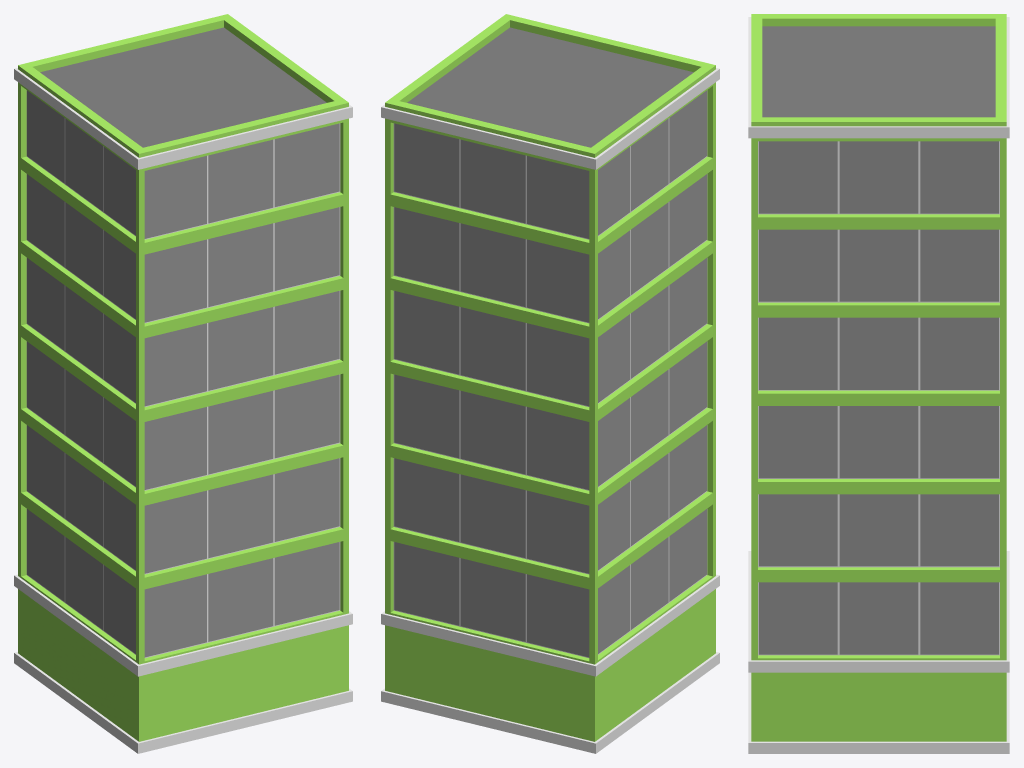
The model's file is SM_House_16_02.FBX.
The picture shows the model from 3 angles, left to right: view 1: azimuth 30°, elevation 25°; view 2: azimuth 150°, elevation 25°; view 3: azimuth 270°, elevation 25°; orthographic projection. The views are drawn at different scales.
Visible parts, largest first — view 1: SM_House_16_02; view 2: SM_House_16_02; view 3: SM_House_16_02.
Part boxes in pixels (<box>): SM_House_16_02: <box>14,14,352,753</box>; SM_House_16_02: <box>381,14,719,753</box>; SM_House_16_02: <box>748,14,1009,753</box>.
Size of the model in its own units: 3.07 by 8.17 by 3.07.
Materials: 1 (1 with a texture image).
